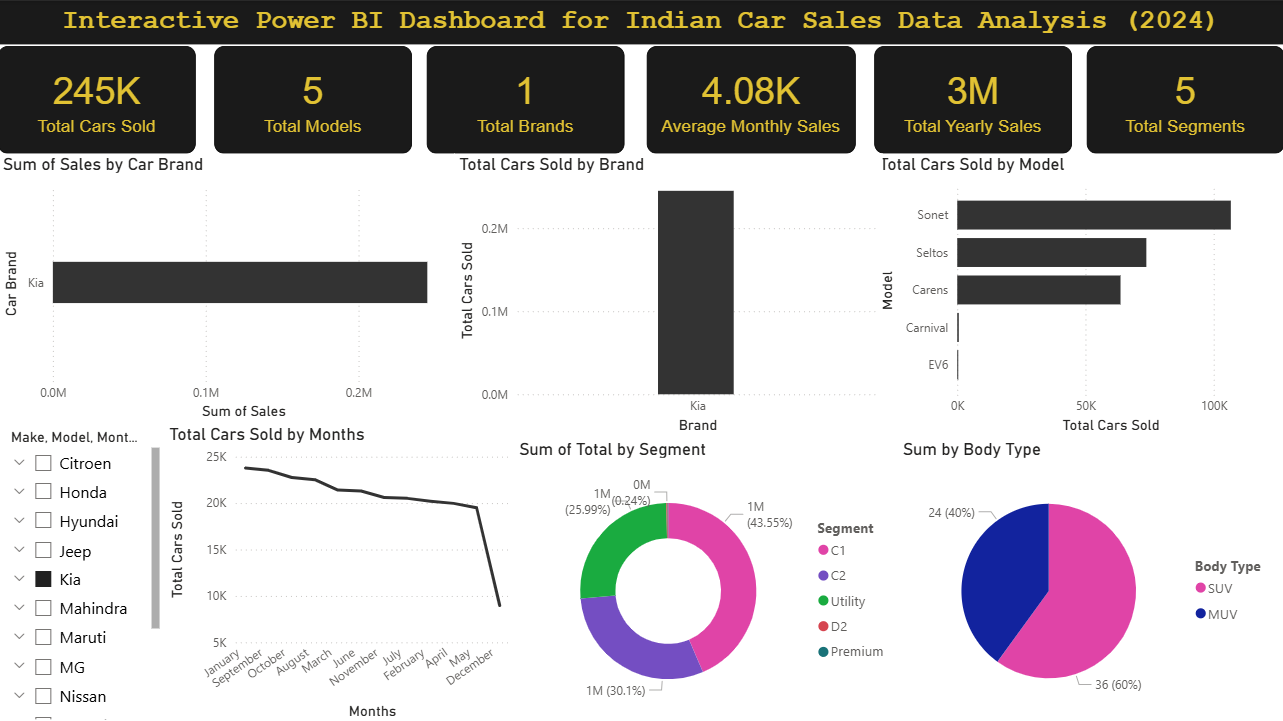

This screenshot's page, from the dashboard's own definition file:
{"tool":"powerbi","page":{"name":"Page 1","canvas":[1280,720],"ordinal":0},"visuals":[{"type":"card","fields":{"Values":["Sheet1.Total Cars Sold"]},"box":[0,44.8,196.5,107],"z":0},{"type":"card","fields":{"Values":["Sheet1.Total Models"]},"box":[215.2,44.8,196.5,107],"z":1},{"type":"card","fields":{"Values":["Sheet1.Total Brands"]},"box":[426.7,44.8,196.5,107],"z":2},{"type":"card","fields":{"Values":["Car Sales.Average Monthly Sales"]},"box":[645.6,44.8,207.7,107],"z":3},{"type":"card","fields":{"Values":["Car Sales.Total Yearly Sales"]},"box":[872,44.8,196.5,107],"z":4},{"type":"card","fields":{"Values":["Car Sales.Total Segments"]},"box":[1083.4,44.8,196.5,107],"z":5},{"type":"clusteredBarChart","fields":{"Category":["Car Sales.Make"],"Y":["Sum(Car Sales.Sales)"]},"box":[0,151.8,454,269.9],"z":6},{"type":"pieChart","fields":{"Category":["Car Sales.Body Type"],"Y":["CountNonNull(Car Sales.Total)"]},"box":[895.7,435.4,384.4,284.9],"z":7},{"type":"donutChart","fields":{"Category":["Car Sales.Segment"],"Y":["Sum(Car Sales.Total)"]},"box":[513.8,435.4,381.9,284.9],"z":8},{"type":"barChart","fields":{"Category":["Car Sales.Model"],"Y":["Car Sales.Total Cars Sold"]},"box":[872,151.8,408,283.6],"z":10},{"type":"slicer","fields":{"Values":["Car Sales.Make","Car Sales.Model","Car Sales.Months","Car Sales.Body Type","Car Sales.Segment"]},"box":[0,420.5,165.4,299.8],"z":11},{"type":"lineChart","fields":{"Y":["Car Sales.Total Cars Sold"],"Category":["Car Sales.Months"]},"box":[165.4,420.5,348.3,299.8],"z":12},{"type":"lineClusteredColumnComboChart","fields":{"Y":["Car Sales.Total Cars Sold"],"Category":["Car Sales.Make"]},"box":[454,151.8,426.7,283.6],"z":13},{"type":"textbox","box":[0,0,1280,43.5],"z":14}]}

Visuals, with their boxes in screenshot pixels (x1, y1, x2, y2), scaled from the page's 1280x720 canvas onto the 1283x721 screenshot:
card - Sheet1.Total Cars Sold: <bbox>0, 45, 197, 152</bbox>
card - Sheet1.Total Models: <bbox>216, 45, 413, 152</bbox>
card - Sheet1.Total Brands: <bbox>428, 45, 625, 152</bbox>
card - Car Sales.Average Monthly Sales: <bbox>647, 45, 855, 152</bbox>
card - Car Sales.Total Yearly Sales: <bbox>874, 45, 1071, 152</bbox>
card - Car Sales.Total Segments: <bbox>1086, 45, 1282, 152</bbox>
clusteredBarChart - Car Sales.Make x Sum(Car Sales.Sales): <bbox>0, 152, 455, 422</bbox>
pieChart - Car Sales.Body Type x CountNonNull(Car Sales.Total): <bbox>898, 436, 1282, 720</bbox>
donutChart - Car Sales.Segment x Sum(Car Sales.Total): <bbox>515, 436, 898, 720</bbox>
barChart - Car Sales.Model x Car Sales.Total Cars Sold: <bbox>874, 152, 1282, 436</bbox>
slicer - Car Sales.Make x Car Sales.Model: <bbox>0, 421, 166, 720</bbox>
lineChart - Car Sales.Total Cars Sold x Car Sales.Months: <bbox>166, 421, 515, 720</bbox>
lineClusteredColumnComboChart - Car Sales.Total Cars Sold x Car Sales.Make: <bbox>455, 152, 883, 436</bbox>
textbox: <bbox>0, 0, 1282, 44</bbox>
